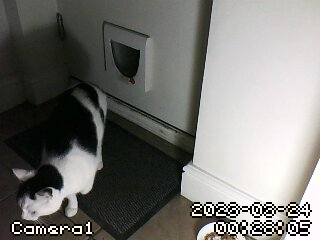bad: (14, 83, 107, 224)
